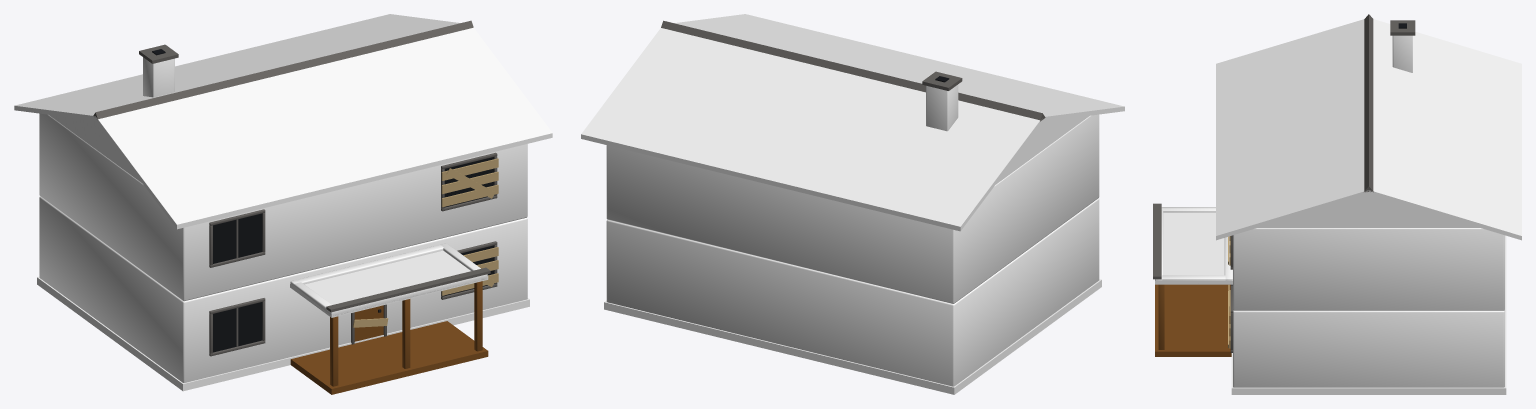
Rendered from bld_ranch_porch_2s.glb.
3 views of the same model, side by side, from view 1: azimuth 30°, elevation 25°; view 2: azimuth 150°, elevation 25°; view 3: azimuth 270°, elevation 25° (orthographic). The views are drawn at different scales.
Parts seen in each view (by area): view 1: ro_roof_front, ro_walls_s2, ro_walls, ro_roof_back, ro_deck, ro_porch_deck, ro_footing, ro_roof_cap, ro_win0, ro_win0_s2, ro_roof_gable, ro_porch_coping (+11 smaller); view 2: ro_roof_back, ro_walls, ro_walls_s2, ro_roof_front, ro_footing, ro_roof_cap, ro_roof_gable, ro_chim; view 3: ro_roof_front, ro_roof_back, ro_walls_s2, ro_walls, ro_deck, ro_porch_deck, ro_roof_gable, ro_footing, ro_roof_cap, ro_chim, ro_porch_coping, ro_post.002 (+2 smaller).
Part boxes in pixels (box(x1,y1,x2,y2)): ro_roof_front: box(95, 27, 552, 229); ro_walls_s2: box(39, 113, 527, 301); ro_walls: box(39, 196, 527, 382); ro_roof_back: box(14, 14, 460, 120); ro_deck: box(290, 321, 488, 394); ro_porch_deck: box(290, 250, 488, 317); ro_footing: box(37, 276, 529, 391); ro_roof_cap: box(93, 20, 473, 119); ro_win0: box(213, 302, 262, 352); ro_win0_s2: box(213, 213, 262, 263); ro_roof_gable: box(49, 115, 141, 182); ro_porch_coping: box(326, 267, 490, 312); ro_roof_back: box(581, 28, 1042, 231); ro_walls: box(606, 198, 1099, 386); ro_walls_s2: box(606, 114, 1099, 303); ro_roof_front: box(674, 14, 1124, 121); ro_footing: box(604, 279, 1101, 394); ro_roof_cap: box(661, 20, 1045, 121); ro_roof_gable: box(996, 115, 1089, 184); ro_chim: box(926, 84, 958, 131); ro_roof_front: box(1216, 19, 1368, 240); ro_roof_back: box(1369, 19, 1521, 240); ro_walls_s2: box(1233, 228, 1504, 310); ro_walls: box(1233, 310, 1504, 387); ro_deck: box(1155, 284, 1231, 356); ro_porch_deck: box(1155, 212, 1232, 284); ro_roof_gable: box(1258, 194, 1479, 227); ro_footing: box(1231, 235, 1506, 394); ro_roof_cap: box(1364, 14, 1373, 192); ro_chim: box(1392, 35, 1412, 72); ro_porch_coping: box(1153, 203, 1161, 279); ro_post.002: box(1158, 284, 1164, 349).
Size of the model in its own units: 12 by 7.83 by 10.85.
